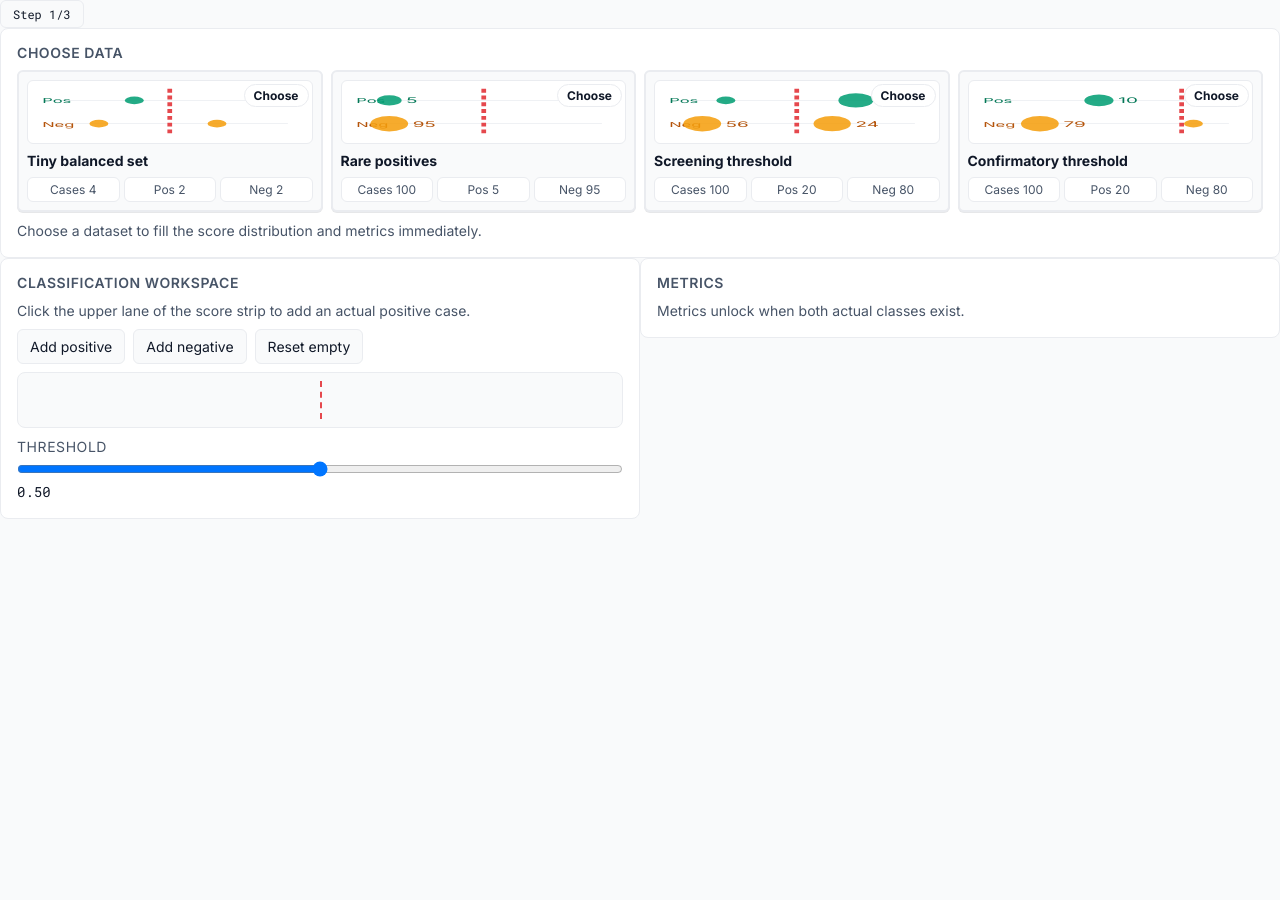
ClassificationPlayground › unlocks metrics after the student creates both actual classes
This screenshot has width=1280, height=900.
Step 1. Click the button "Add positive" → [71, 346], box [17, 329, 125, 364]
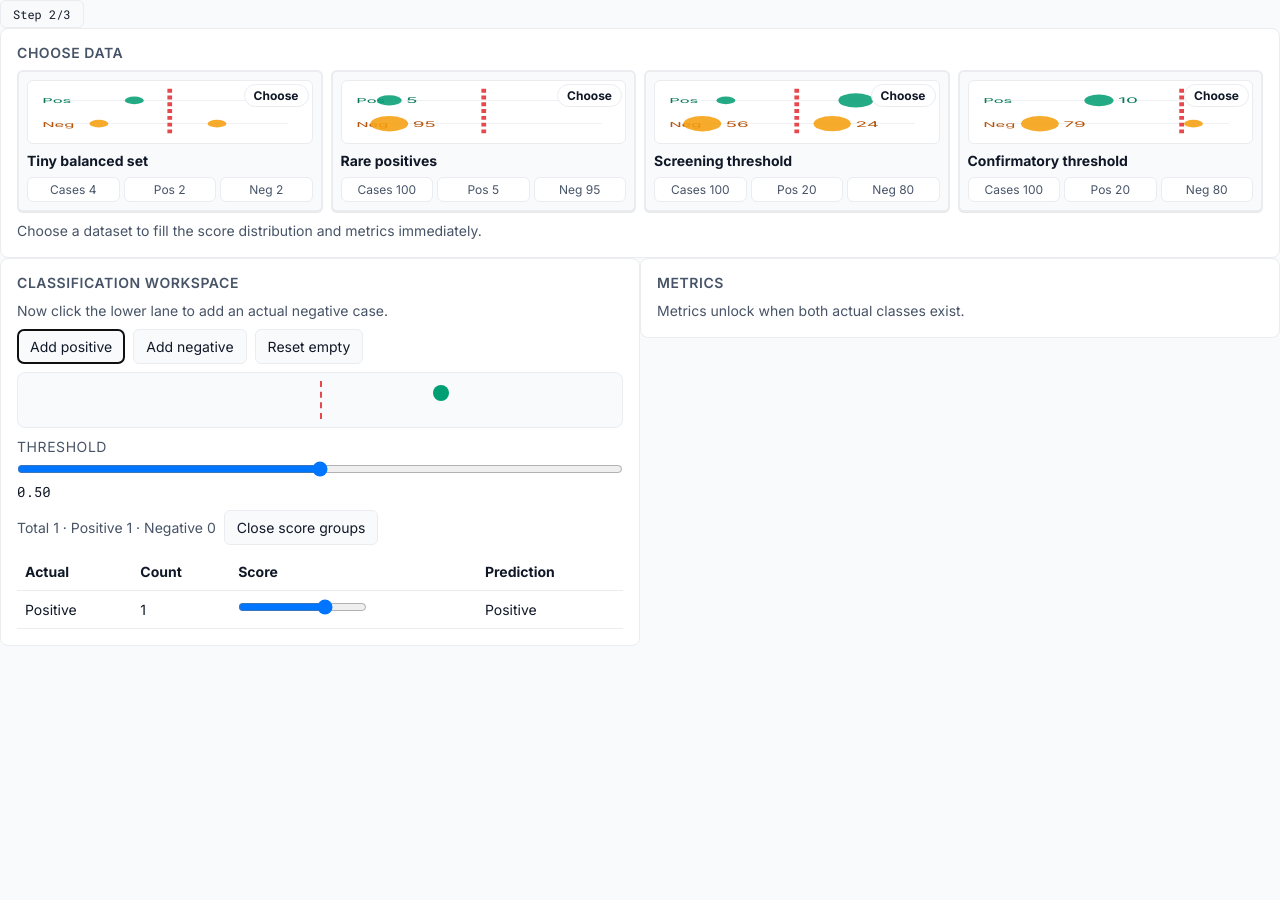
Step 2. Click the button "Add negative" → [190, 346], box [133, 329, 247, 364]
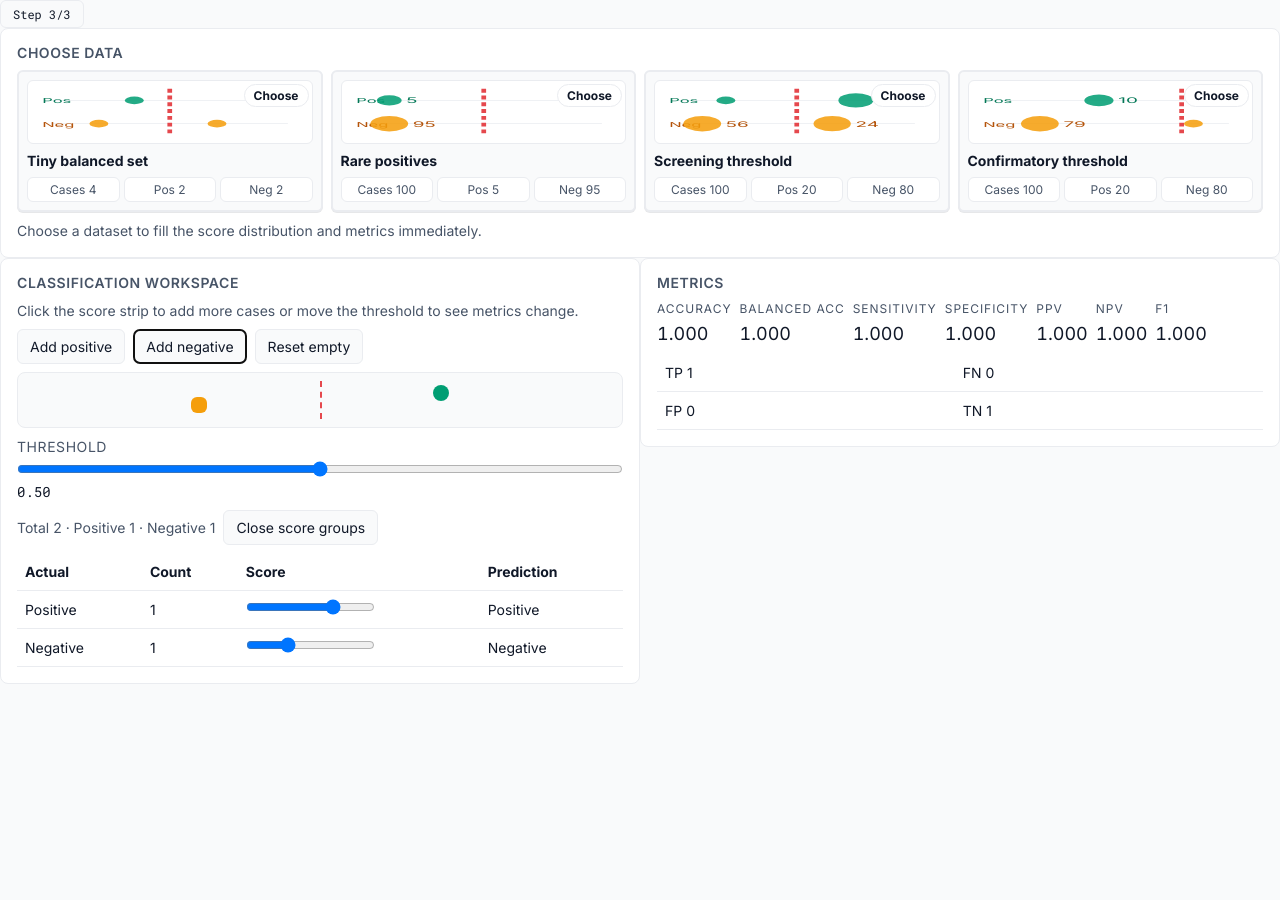
Now the text "Step 3/3" is shown, box [0, 0, 84, 28]
Now the text "TP 1" is shown, box [657, 354, 955, 391]
Now the text "TN 1" is shown, box [955, 391, 1263, 429]
